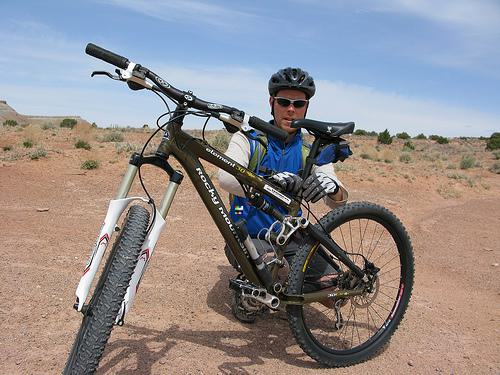car: (65, 45, 413, 375)
person: (217, 68, 355, 320)
